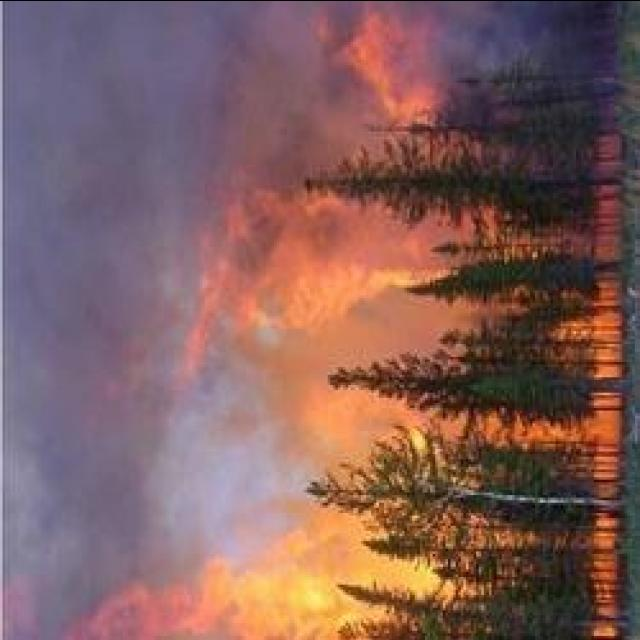fire: (270, 564, 330, 624)
smoke: (10, 370, 156, 542), (198, 191, 408, 293), (71, 570, 288, 640), (252, 102, 322, 180), (432, 3, 526, 61)
